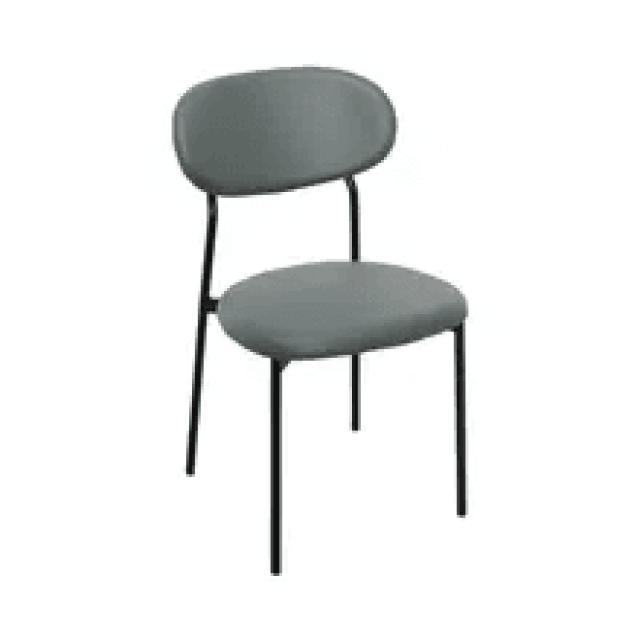chair: (167, 61, 475, 576), (172, 62, 470, 358)
